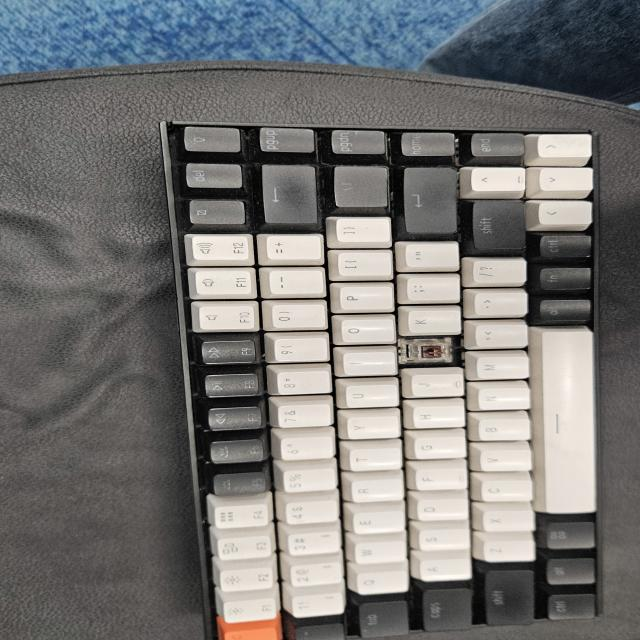C: (407, 340, 455, 364)
